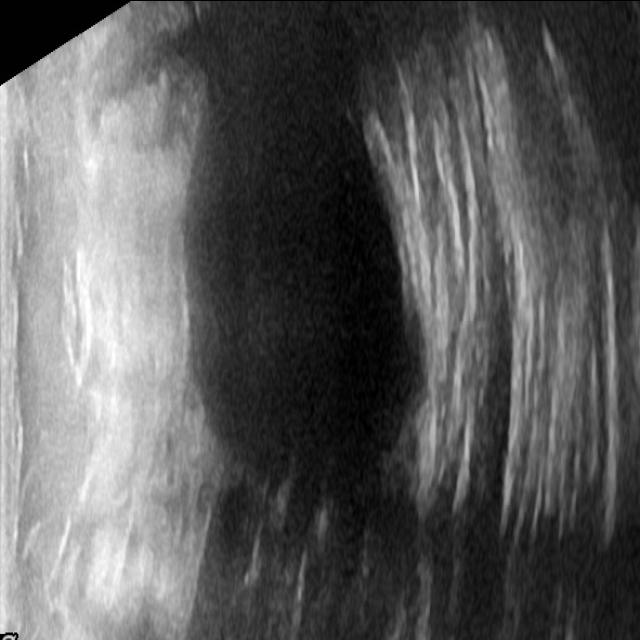Benign: (180, 122, 398, 472)
